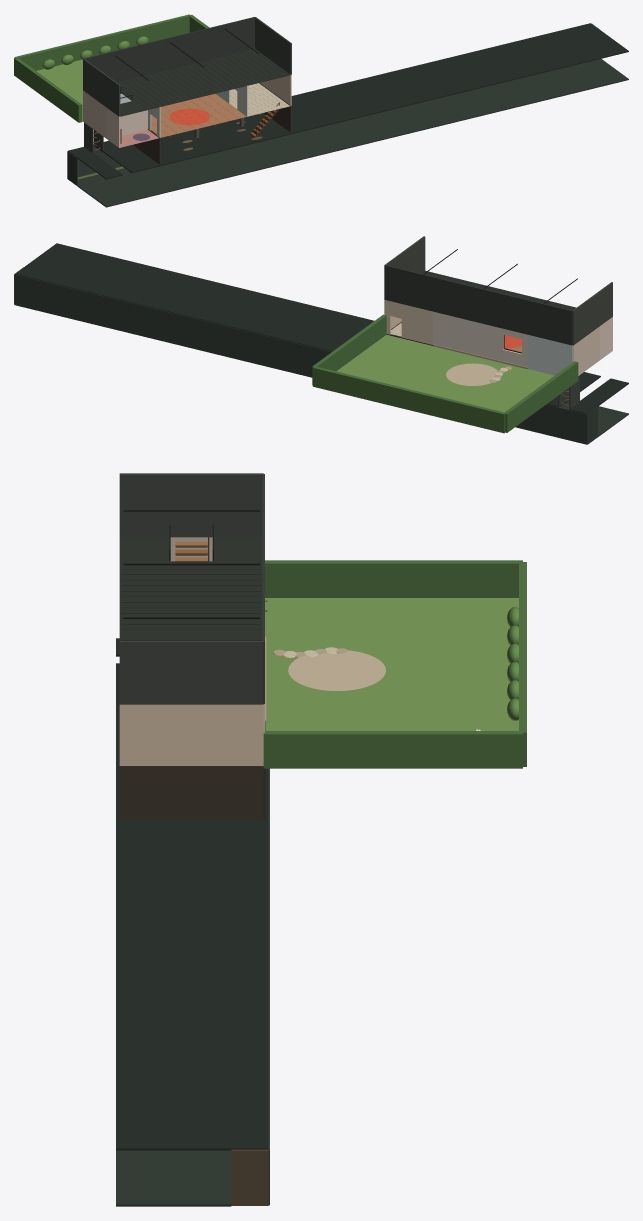
The model's file is stampkonijn-house.glb.
3 views of the same model, one above another, from view 1: azimuth 30°, elevation 25°; view 2: azimuth 150°, elevation 25°; view 3: azimuth 270°, elevation 25° (orthographic). The views are drawn at different scales.
Visible parts, largest first — view 1: sewer_foreground_floor, sewer_foreground_roof_1, upstairs_floor_0, upstairs_back_wall, sewer_roof_1, garden_back_hedge, living_floor, garden_left_hedge, upstairs_left_wall, upstairs_right_wall, garden_lawn, kitchen_floor (+13 smaller); view 2: sewer_back_wall, sewer_foreground_roof_1, garden_lawn, upstairs_back_wall, garden_back_hedge, sewer_roof_1, living_back_wall_right, garden_left_hedge, garden_right_hedge, upstairs_left_wall, bathroom_back_wall, kitchen_back_wall_left (+9 smaller); view 3: sewer_foreground_roof_1, garden_lawn, sewer_roof_1, upstairs_floor_0, garden_right_hedge, garden_left_hedge, upstairs_right_wall, upstairs_left_wall, kitchen_outer_wall, basement_right_wall, sewer_foreground_floor, garden_patio (+4 smaller).
Boxes of the visible parts, bbox=[...] form: sewer_foreground_floor: bbox=[77, 59, 628, 207]; sewer_foreground_roof_1: bbox=[103, 30, 628, 173]; upstairs_floor_0: bbox=[117, 48, 290, 110]; upstairs_back_wall: bbox=[83, 17, 254, 82]; sewer_roof_1: bbox=[94, 23, 599, 151]; garden_back_hedge: bbox=[14, 14, 190, 70]; living_floor: bbox=[151, 93, 246, 137]; garden_left_hedge: bbox=[14, 57, 82, 122]; upstairs_left_wall: bbox=[83, 59, 120, 116]; upstairs_right_wall: bbox=[255, 17, 291, 74]; garden_lawn: bbox=[36, 60, 82, 121]; kitchen_floor: bbox=[230, 83, 289, 116]; sewer_back_wall: bbox=[14, 274, 587, 444]; sewer_foreground_roof_1: bbox=[25, 243, 600, 398]; garden_lawn: bbox=[336, 334, 554, 412]; upstairs_back_wall: bbox=[384, 265, 572, 345]; garden_back_hedge: bbox=[313, 366, 505, 433]; sewer_roof_1: bbox=[15, 266, 568, 406]; living_back_wall_right: bbox=[432, 311, 503, 361]; garden_left_hedge: bbox=[504, 361, 578, 432]; garden_right_hedge: bbox=[312, 314, 386, 385]; upstairs_left_wall: bbox=[573, 282, 612, 345]; bathroom_back_wall: bbox=[528, 335, 572, 375]; kitchen_back_wall_left: bbox=[401, 304, 432, 344]; sewer_foreground_roof_1: bbox=[116, 663, 231, 1150]; garden_lawn: bbox=[265, 598, 518, 730]; sewer_roof_1: bbox=[231, 768, 268, 1149]; upstairs_floor_0: bbox=[119, 561, 262, 640]; garden_right_hedge: bbox=[263, 731, 522, 768]; garden_left_hedge: bbox=[265, 560, 522, 597]; upstairs_right_wall: bbox=[119, 641, 263, 704]; upstairs_left_wall: bbox=[119, 473, 263, 537]; kitchen_outer_wall: bbox=[119, 704, 263, 765]; basement_right_wall: bbox=[119, 766, 263, 820]; sewer_foreground_floor: bbox=[116, 1150, 231, 1206]; garden_patio: bbox=[288, 650, 385, 690].
Size of the model in its own units: 84.03 by 18.1 by 28.53.
